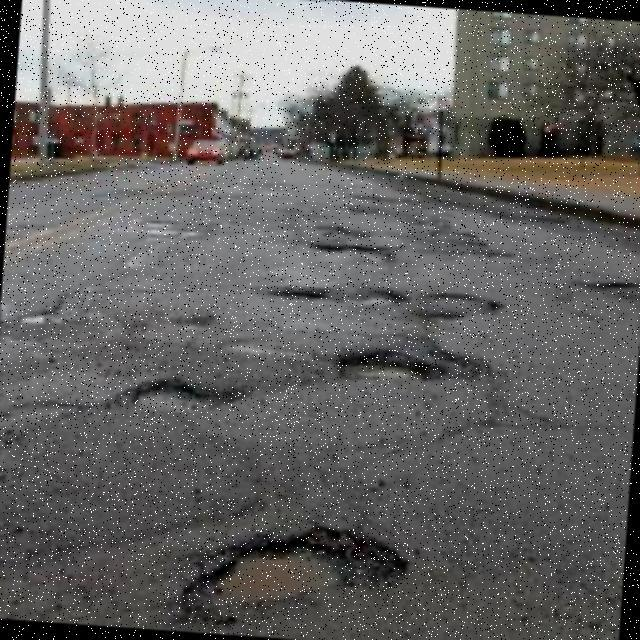Pothole: (182, 525, 407, 621), (334, 340, 484, 385), (125, 379, 247, 414)
